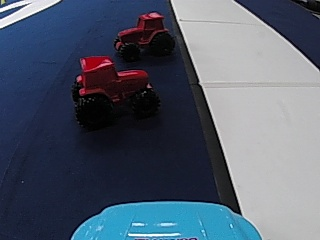Tracktor: (69, 51, 160, 128), (113, 9, 174, 59)
